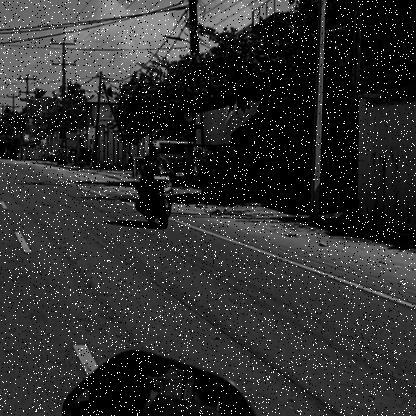motorcycle: (132, 165, 178, 231)
